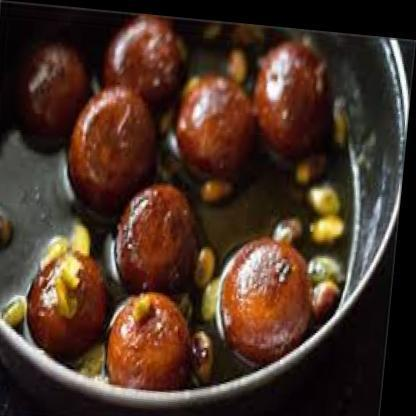gulab_jamun: (68, 80, 165, 214), (222, 232, 321, 361), (117, 177, 206, 297), (250, 32, 336, 151), (29, 245, 115, 361), (111, 287, 203, 390), (176, 69, 260, 181), (18, 35, 92, 146), (103, 8, 184, 105)
